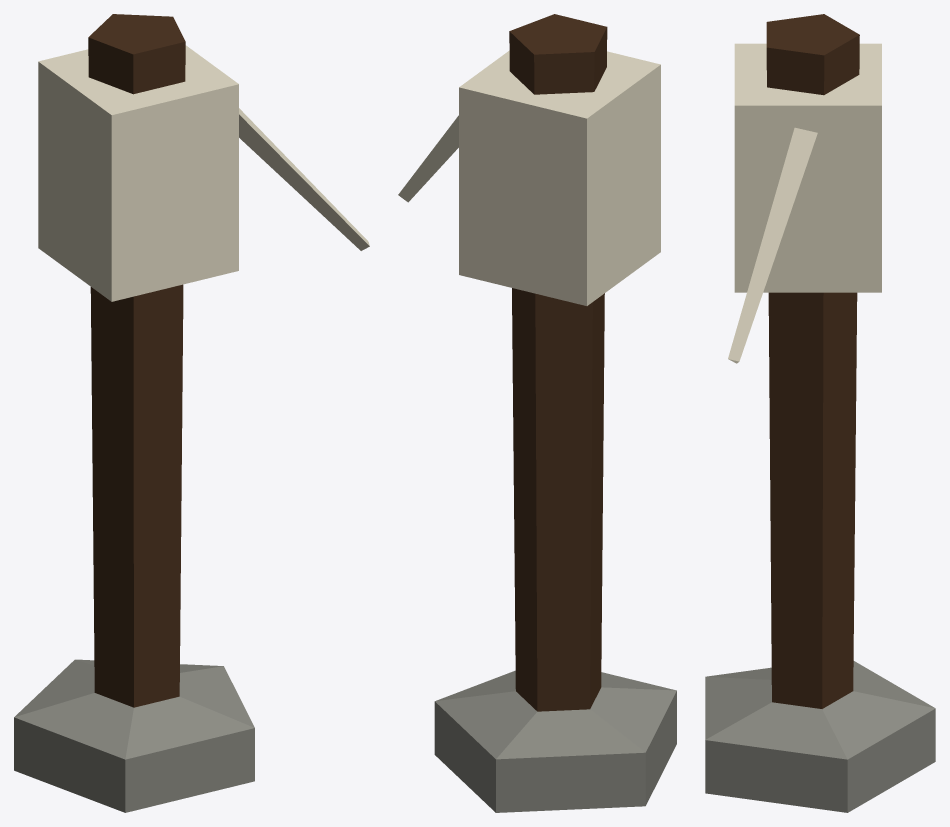
Rendered from a1r_ridge_marker.glb.
The picture shows the model from 3 angles, left to right: view 1: azimuth 30°, elevation 25°; view 2: azimuth 150°, elevation 25°; view 3: azimuth 270°, elevation 25°; orthographic projection.
Parts seen in each view (by area): view 1: a1r_ridge_marker; view 2: a1r_ridge_marker; view 3: a1r_ridge_marker.
Boxes of the visible parts, <box> form: a1r_ridge_marker: <box>14,14,369,812</box>; a1r_ridge_marker: <box>398,14,676,812</box>; a1r_ridge_marker: <box>705,14,935,812</box>.
Bounding box in the file's own units: 0.4717 × 1.13 × 0.3133.
